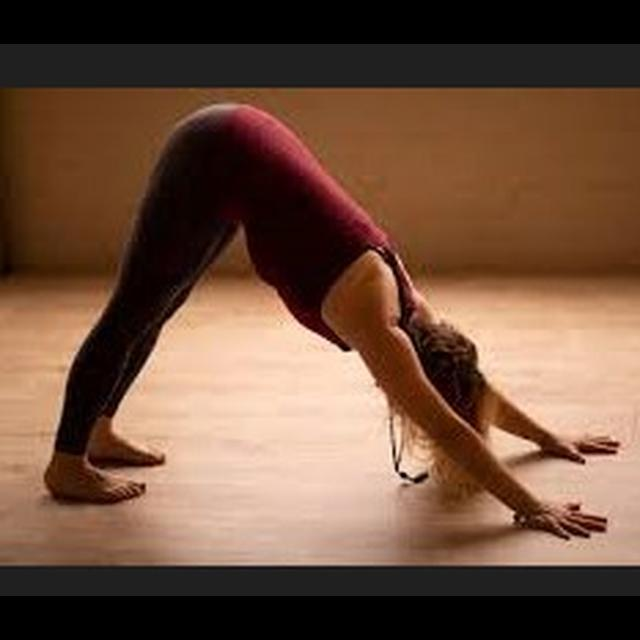Downward-Facing_Dog: (41, 98, 625, 547)
